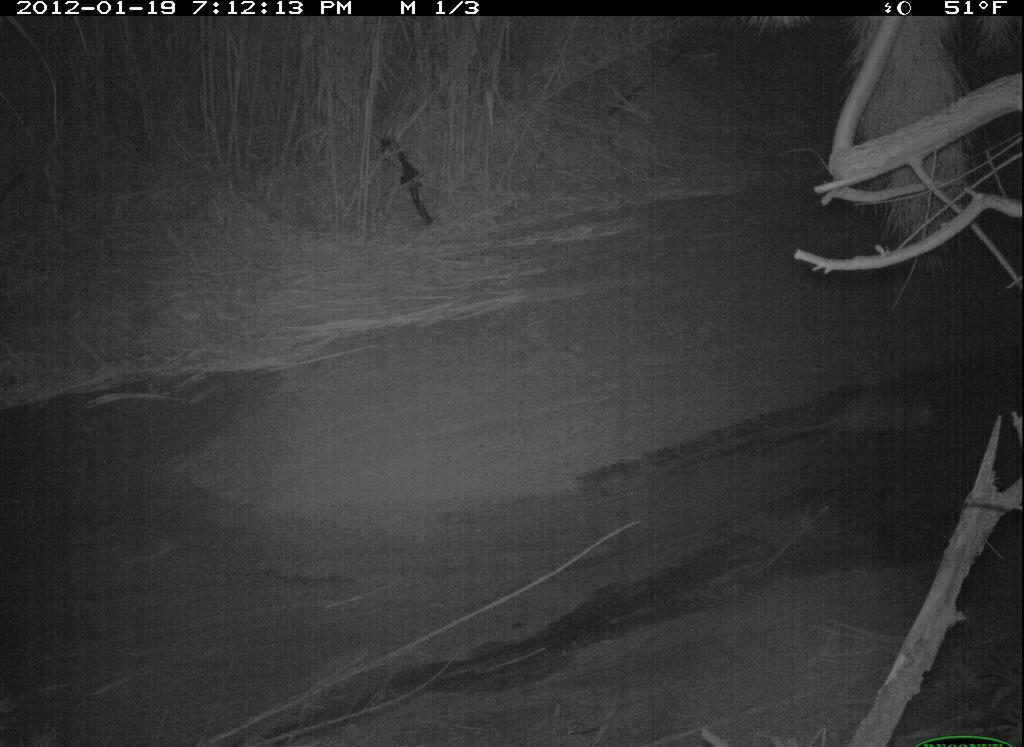opossum: (729, 377, 955, 466)
